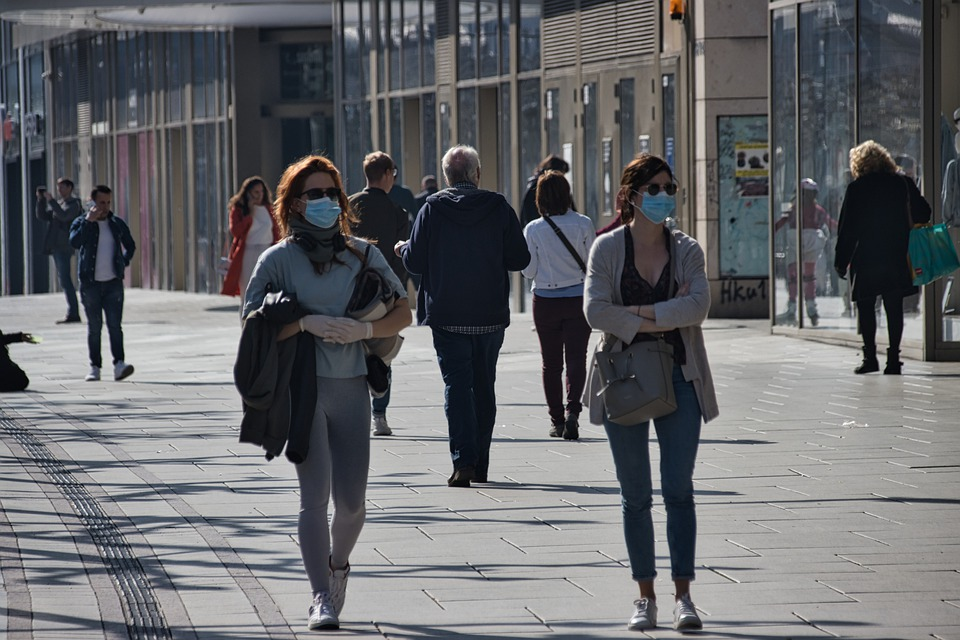person: (221, 145, 426, 632), (575, 143, 734, 634), (396, 133, 539, 500), (828, 126, 939, 380), (520, 166, 600, 448), (61, 183, 154, 390), (217, 170, 292, 302), (342, 138, 421, 256), (33, 177, 94, 326)
